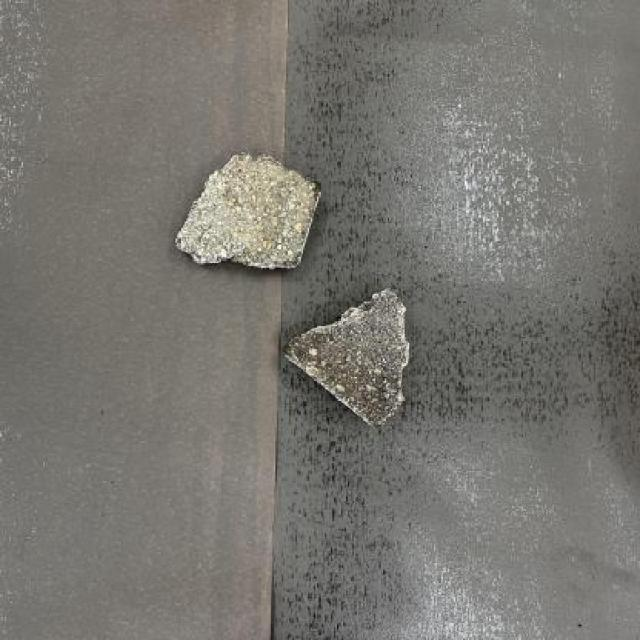Road Debris: (233, 149, 313, 269), (292, 340, 394, 420)
